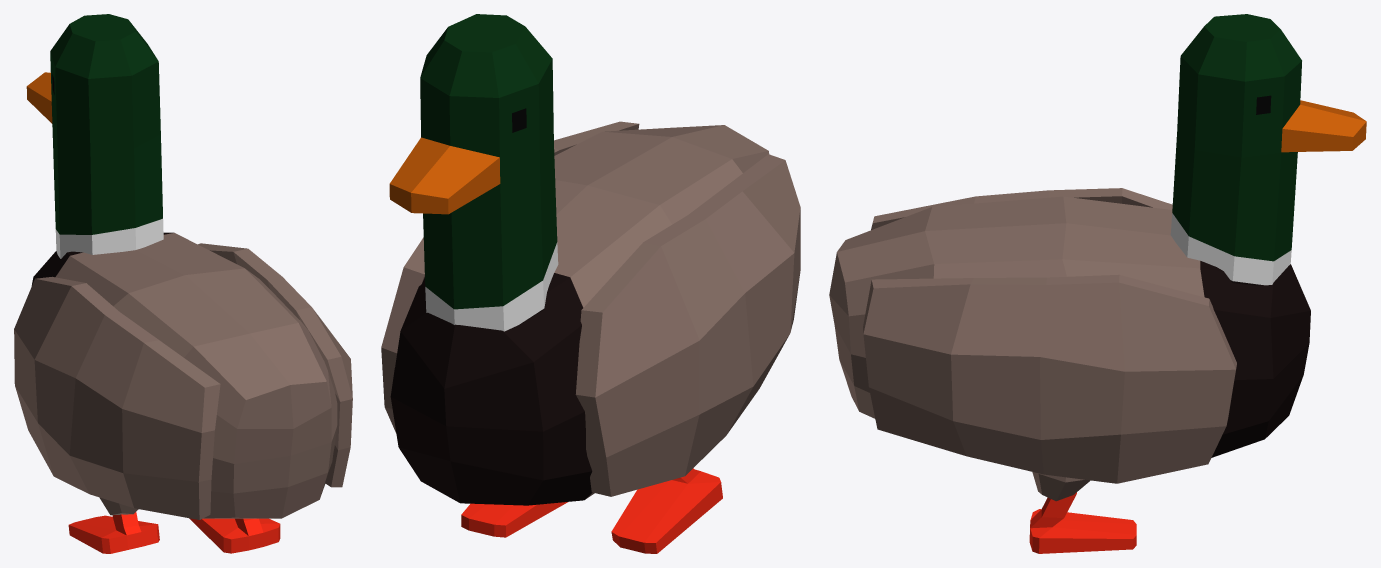
Rendered from all_duck.obj.
3 views of the same model, side by side, from view 1: azimuth 30°, elevation 25°; view 2: azimuth 150°, elevation 25°; view 3: azimuth 270°, elevation 25° (orthographic). The views are drawn at different scales.
Parts seen in each view (by area): view 1: Entities_duck_body; view 2: Entities_duck_body; view 3: Entities_duck_body.
Part boxes in pixels (bbox=[...]): Entities_duck_body: bbox=[14, 14, 352, 553]; Entities_duck_body: bbox=[381, 14, 800, 553]; Entities_duck_body: bbox=[829, 14, 1366, 553].
Bounding box in the file's own units: 0.3394 × 0.6101 × 0.6108.
